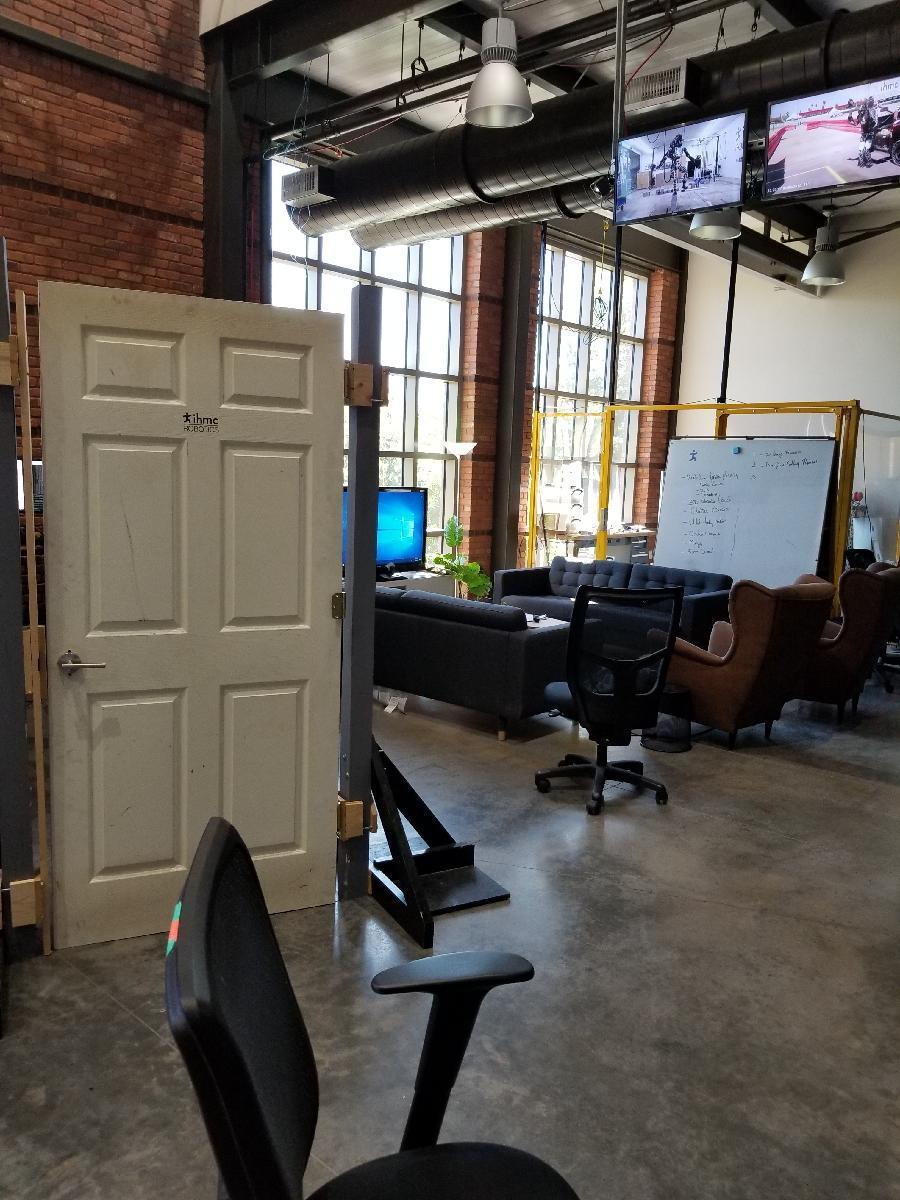door: (41, 288, 331, 935)
handle: (57, 649, 111, 681)
